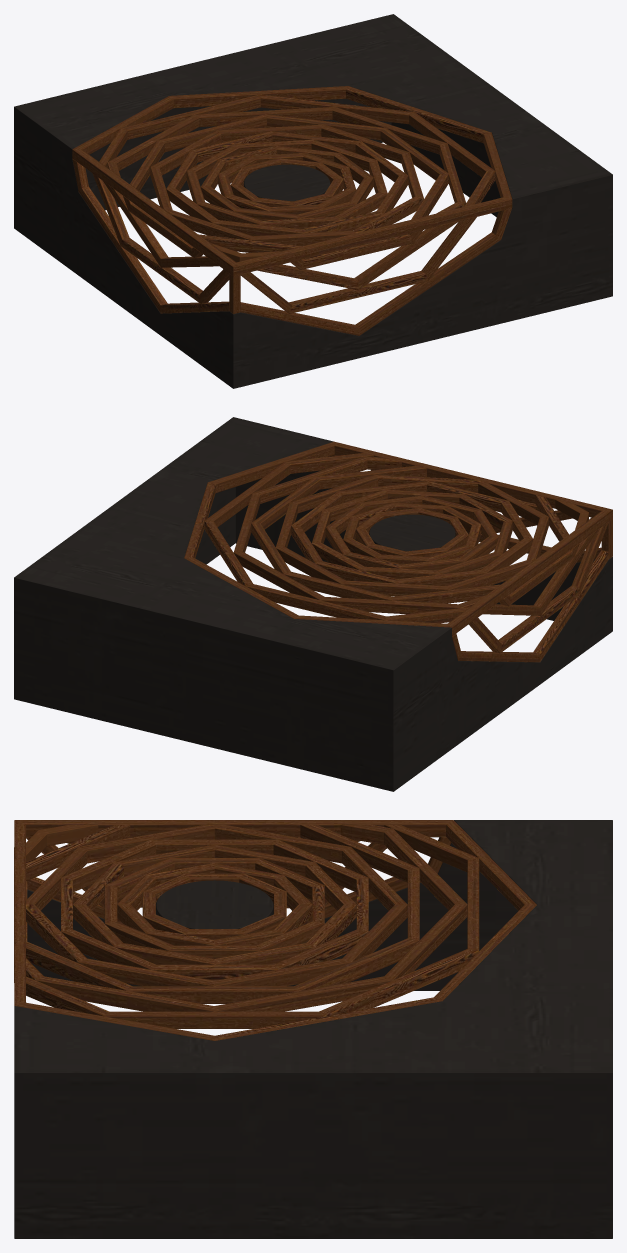
File: modern_coffee_table_02.gltf
The picture shows the model from 3 angles, top to bottom: view 1: azimuth 30°, elevation 25°; view 2: azimuth 150°, elevation 25°; view 3: azimuth 270°, elevation 25°; orthographic projection. The views are drawn at different scales.
Visible parts, largest first — view 1: modern_coffee_table_02; view 2: modern_coffee_table_02; view 3: modern_coffee_table_02.
Part boxes in pixels (x1,y1,x2,y2): modern_coffee_table_02: (14, 14, 612, 388); modern_coffee_table_02: (14, 417, 612, 791); modern_coffee_table_02: (14, 820, 612, 1238).
Bounding box in the file's own units: 1.2 × 0.3692 × 1.2.
Materials: 2 (2 with a texture image).
